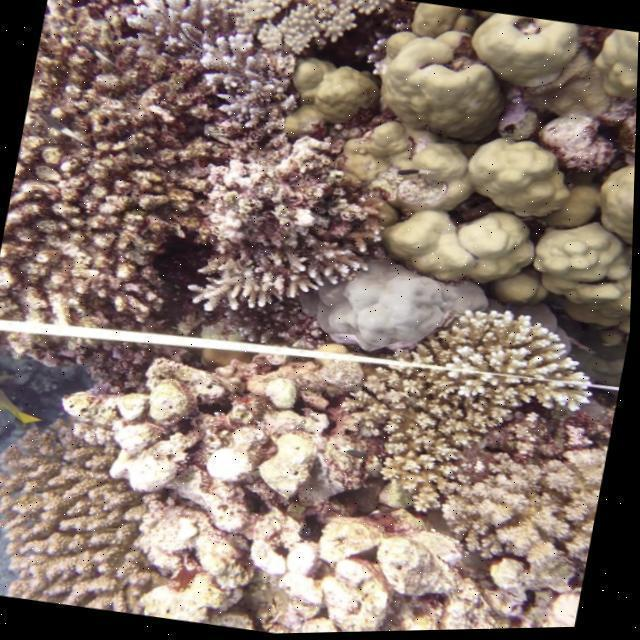Healthy Coral: (348, 10, 640, 298)
